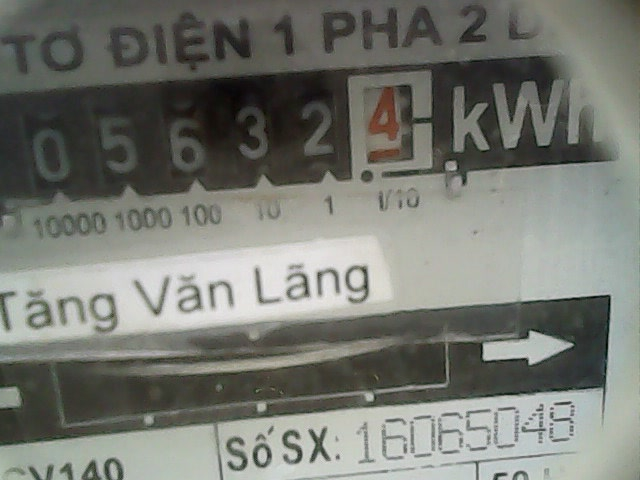phy_plate: (13, 62, 441, 209)
